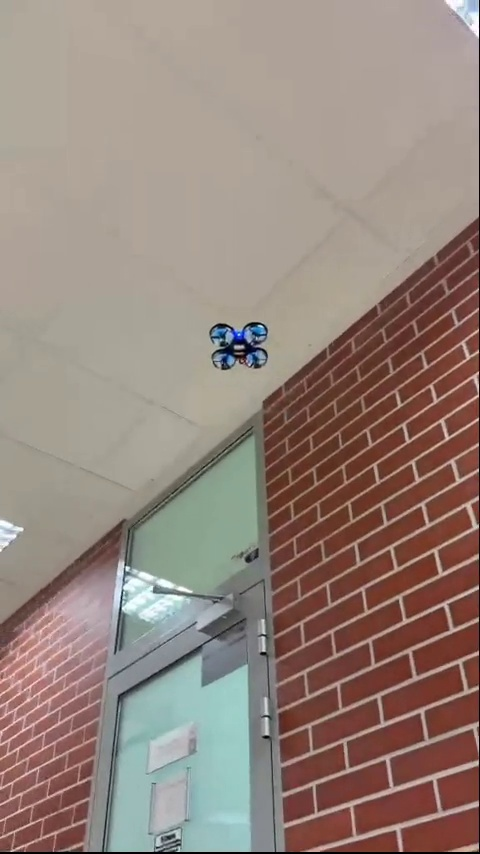drone: (209, 321, 273, 375)
